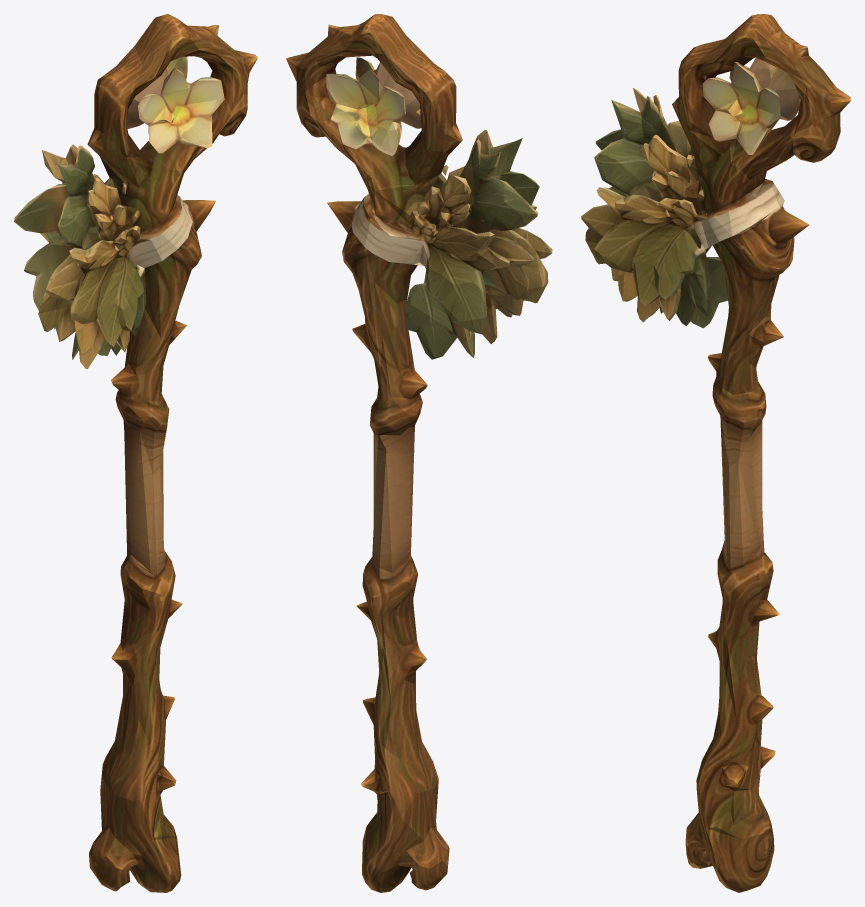
The model's file is herbalist-staff.hq.glb.
3 views of the same model, side by side, from view 1: azimuth 30°, elevation 25°; view 2: azimuth 150°, elevation 25°; view 3: azimuth 330°, elevation 25° (orthographic).
Parts seen in each view (by area): view 1: output_unwrapped; view 2: output_unwrapped; view 3: output_unwrapped.
Boxes of the visible parts, x1,y1,x2,y2 form: output_unwrapped: (14,14,257,892); output_unwrapped: (286,14,552,892); output_unwrapped: (581,14,850,892).
Bounding box in the file's own units: 0.5658 × 1.9 × 0.2368.
1 material, 1 textured.
